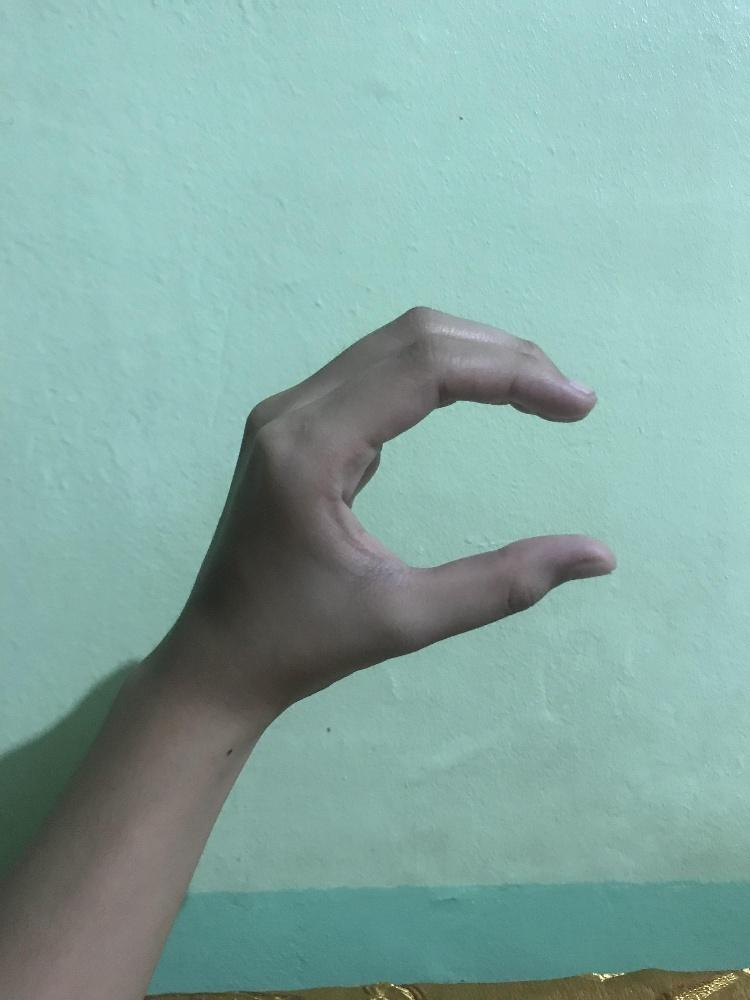c: (203, 298, 620, 707)
